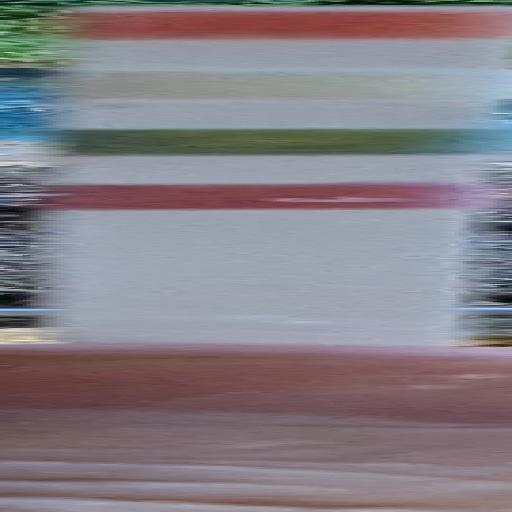pads: (45, 9, 499, 40), (66, 71, 499, 100), (65, 129, 474, 156), (52, 184, 461, 208)
